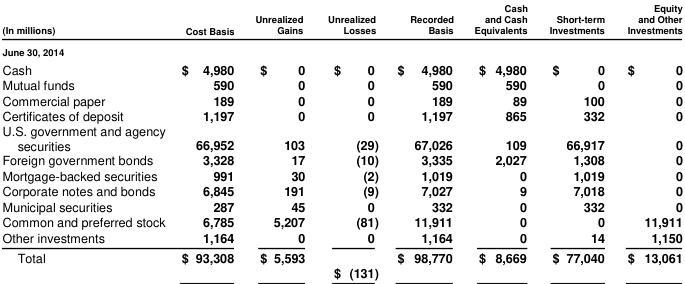table: (1, 1, 682, 280)
table column: (1, 1, 172, 280), (537, 1, 615, 280), (387, 1, 463, 280), (463, 1, 537, 280), (243, 1, 315, 280), (315, 1, 387, 280), (172, 1, 243, 280), (615, 1, 682, 280)
table column header: (1, 1, 682, 40)
table projected row header: (1, 40, 682, 58)
table row: (1, 1, 682, 40), (1, 247, 682, 280), (1, 122, 682, 152), (1, 40, 682, 58), (1, 58, 682, 76), (1, 229, 682, 247), (1, 91, 682, 107), (1, 182, 682, 198), (1, 213, 682, 229), (1, 76, 682, 91), (1, 107, 682, 122), (1, 152, 682, 167), (1, 167, 682, 182), (1, 198, 682, 213)
